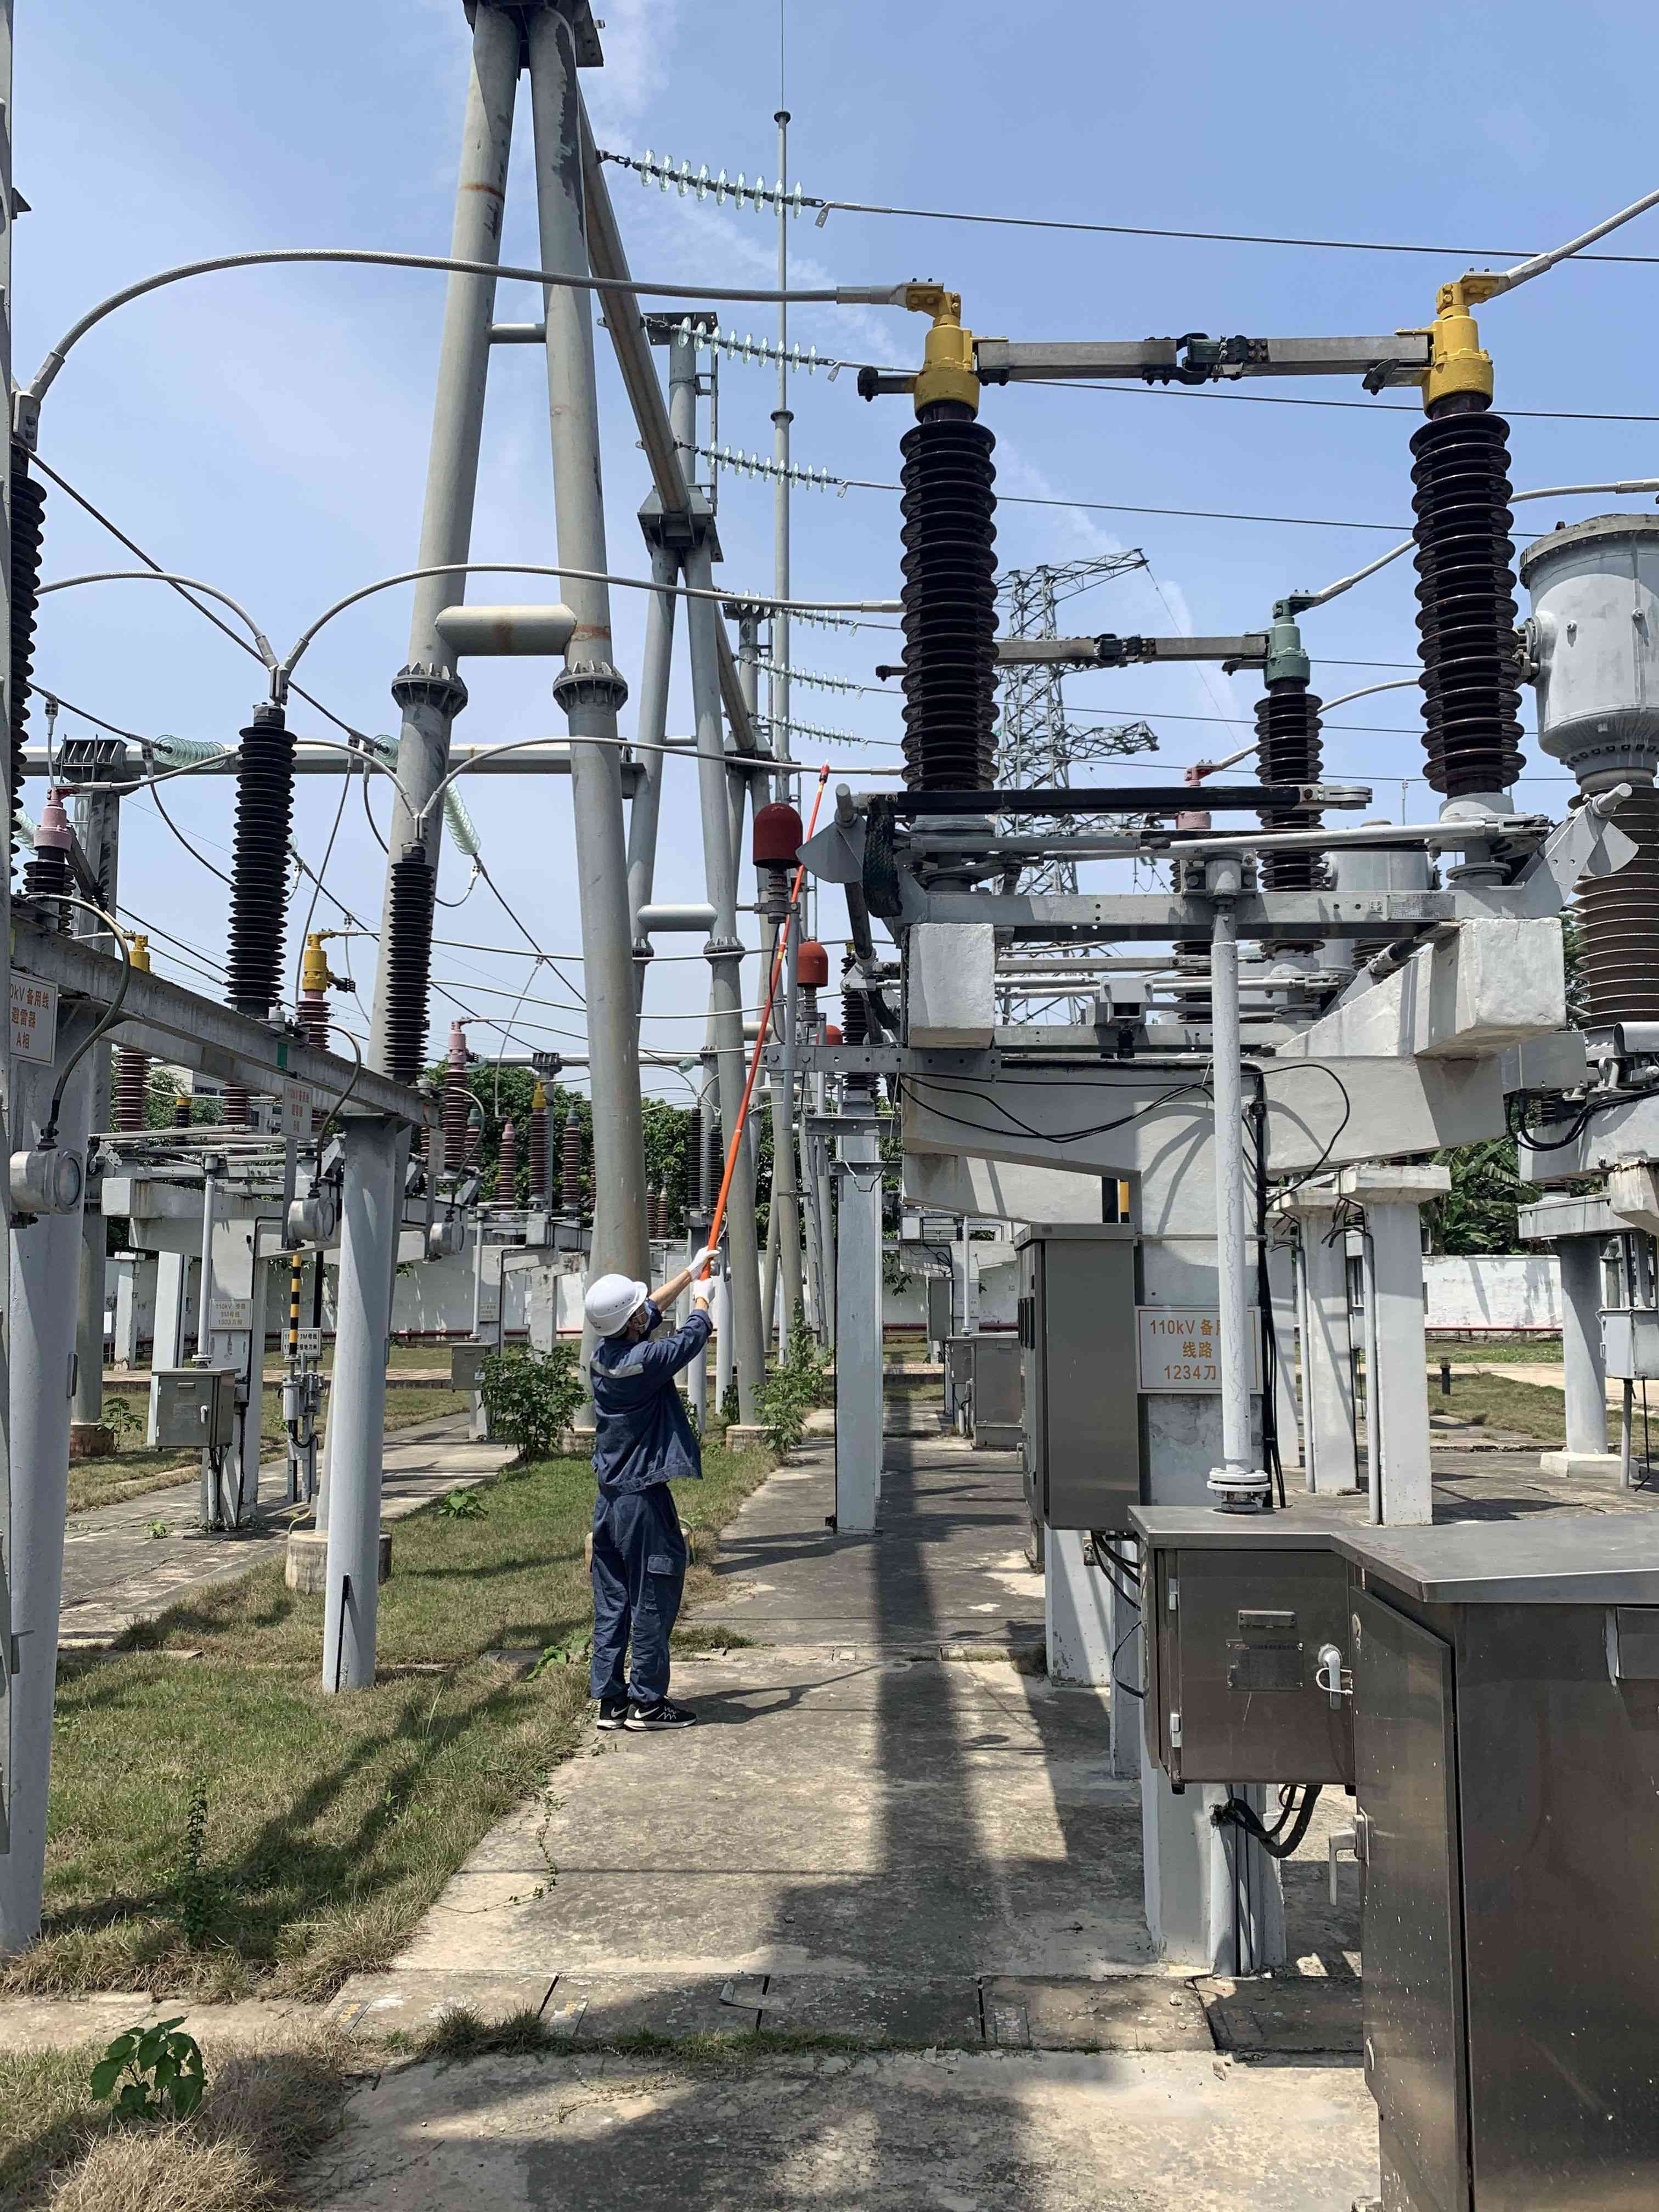downsuit: (587, 1496, 692, 1702)
upsuit: (582, 1322, 709, 1491)
wrongtop: (647, 1271, 714, 1325)
